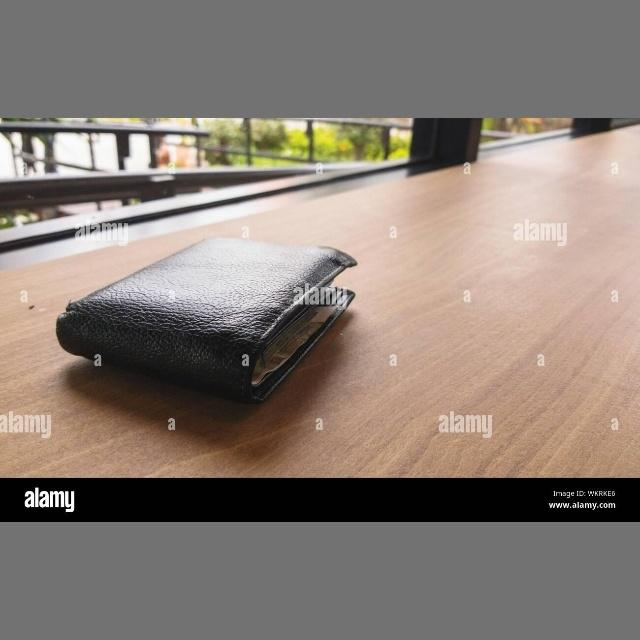Wallet: (58, 220, 418, 412)
